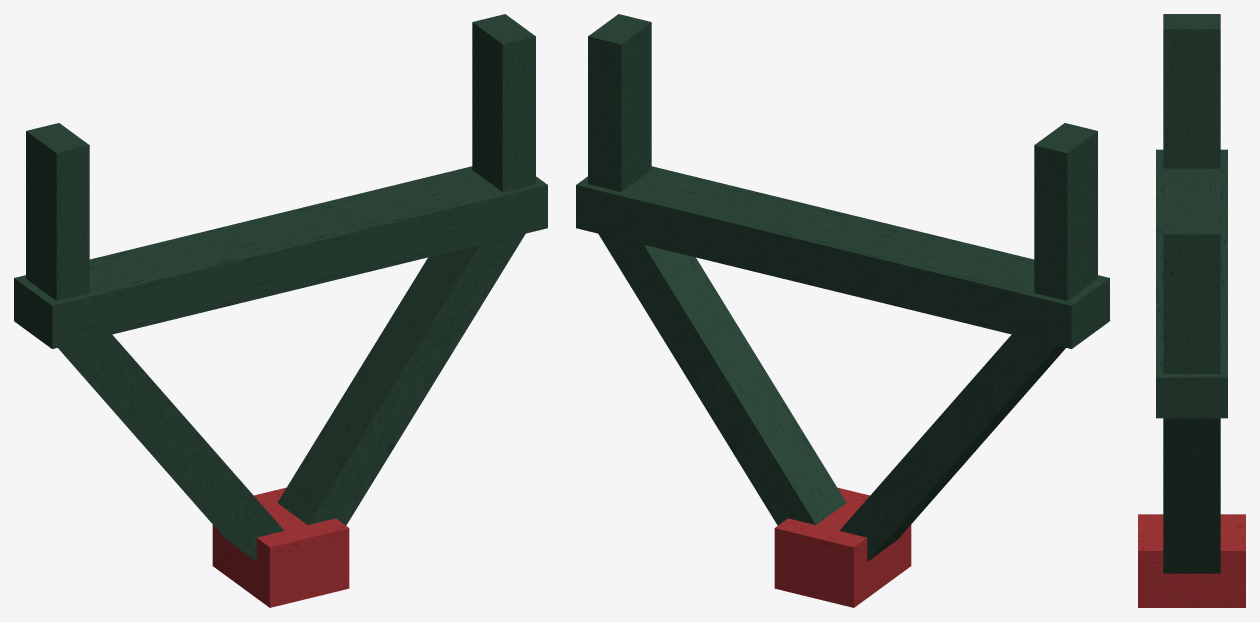
File: UnderDeckBrace.fbx
3 views of the same model, side by side, from view 1: azimuth 30°, elevation 25°; view 2: azimuth 150°, elevation 25°; view 3: azimuth 270°, elevation 25° (orthographic). The views are drawn at different scales.
Visible parts, largest first — view 1: UnderDeckBrace; view 2: UnderDeckBrace; view 3: UnderDeckBrace.
Part boxes in pixels (box(x1,y1,x2,y2)): UnderDeckBrace: box(14, 14, 547, 607); UnderDeckBrace: box(576, 14, 1109, 607); UnderDeckBrace: box(1138, 14, 1245, 607).
Bounding box in the file's own units: 300 × 286 × 60.
